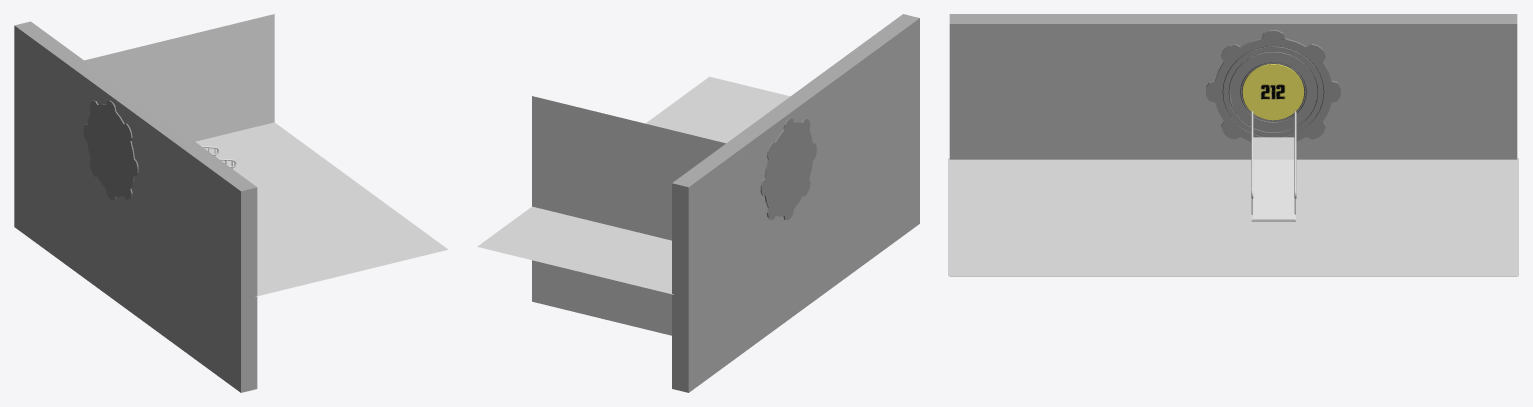
Rendered from MainMenu.fbx.
The picture shows the model from 3 angles, left to right: view 1: azimuth 30°, elevation 25°; view 2: azimuth 150°, elevation 25°; view 3: azimuth 270°, elevation 25°; orthographic projection. The views are drawn at different scales.
Parts seen in each view (by area): view 1: Wall, Floor, Plane, Stabledoor; view 2: Wall, Plane, Floor, Stabledoor; view 3: Wall, Floor, Stabledoor, Ramp.
Part boxes in pixels (x1=…): Wall: x1=14, y1=21, x2=257, y2=392; Floor: x1=195, y1=122, x2=447, y2=296; Plane: x1=84, y1=14, x2=274, y2=141; Stabledoor: x1=83, y1=100, x2=138, y2=200; Wall: x1=672, y1=14, x2=919, y2=392; Plane: x1=532, y1=96, x2=725, y2=335; Floor: x1=477, y1=76, x2=789, y2=294; Stabledoor: x1=760, y1=118, x2=816, y2=220; Wall: x1=949, y1=14, x2=1517, y2=276; Floor: x1=948, y1=158, x2=1518, y2=276; Stabledoor: x1=1206, y1=30, x2=1340, y2=141; Ramp: x1=1251, y1=137, x2=1295, y2=221.
Bounding box in the file's own units: 216 × 200 × 410.
